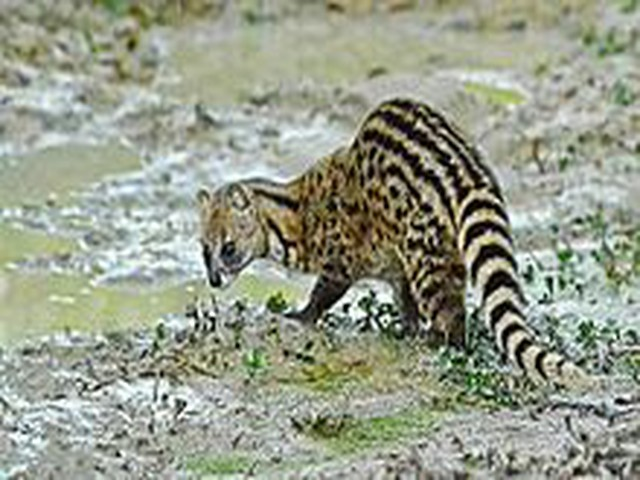civet: (188, 96, 602, 401)
